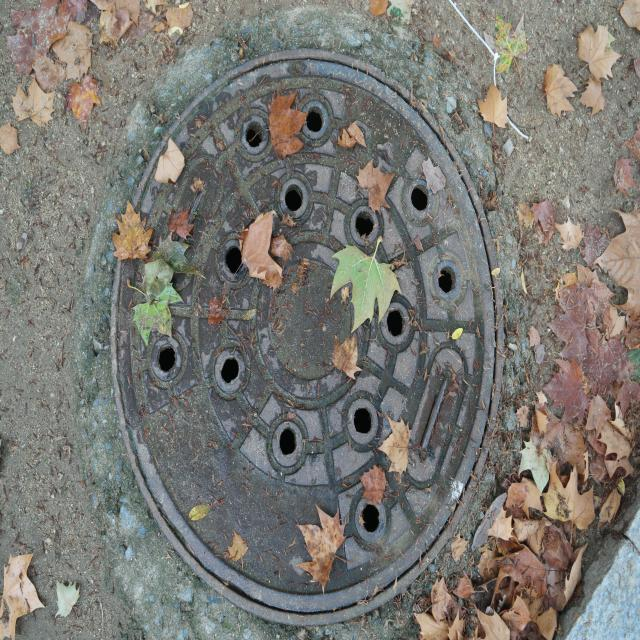manhole: (112, 51, 496, 623)
